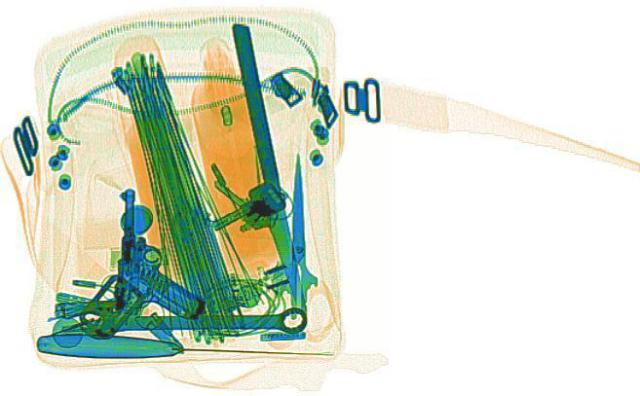Gun: (114, 188, 208, 316)
Knife: (220, 19, 314, 309), (28, 328, 336, 365)
Scissors: (260, 150, 334, 347)
Wrench: (79, 301, 305, 337)
